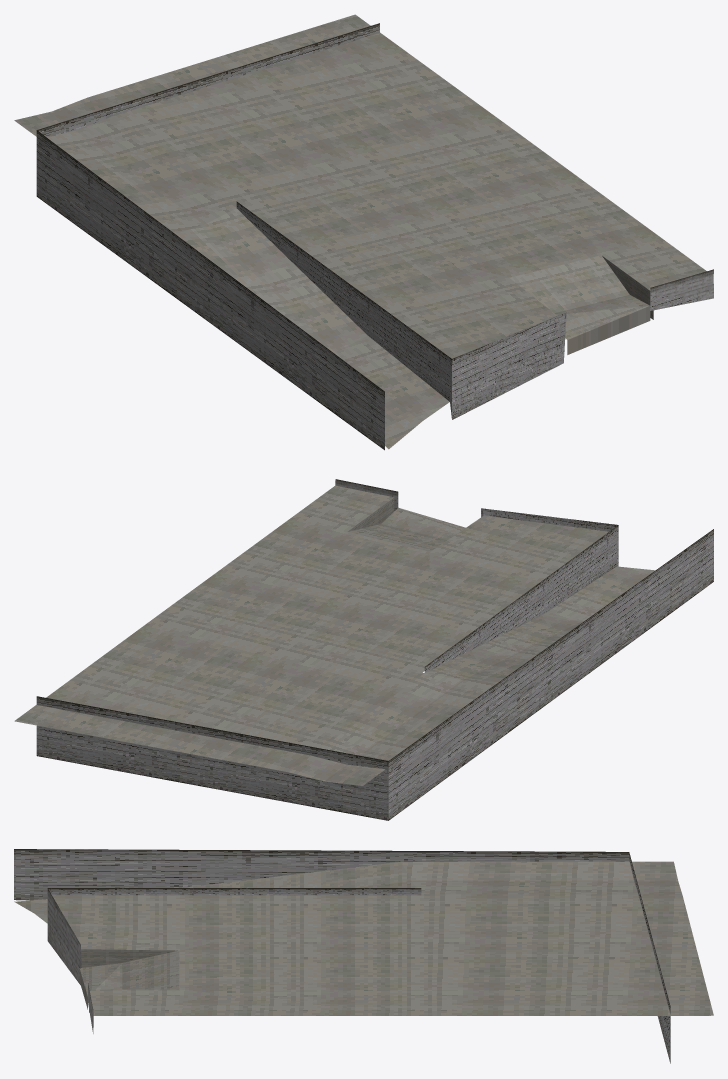
File: lodlawngrnasa.obj
3 renders of one model, top to bottom at view 1: azimuth 30°, elevation 25°; view 2: azimuth 150°, elevation 25°; view 3: azimuth 270°, elevation 25°, orthographic. The views are drawn at different scales.
Parts seen in each view (by area): view 1: lodlawngrnasa; view 2: lodlawngrnasa; view 3: lodlawngrnasa.
Part boxes in pixels (x1=…): lodlawngrnasa: x1=14, y1=14, x2=713, y2=450; lodlawngrnasa: x1=14, y1=479, x2=713, y2=820; lodlawngrnasa: x1=14, y1=849, x2=713, y2=1063.
Bounding box in the file's own units: 38.93 × 6.61 × 72.63.
2 materials, 2 textured.
